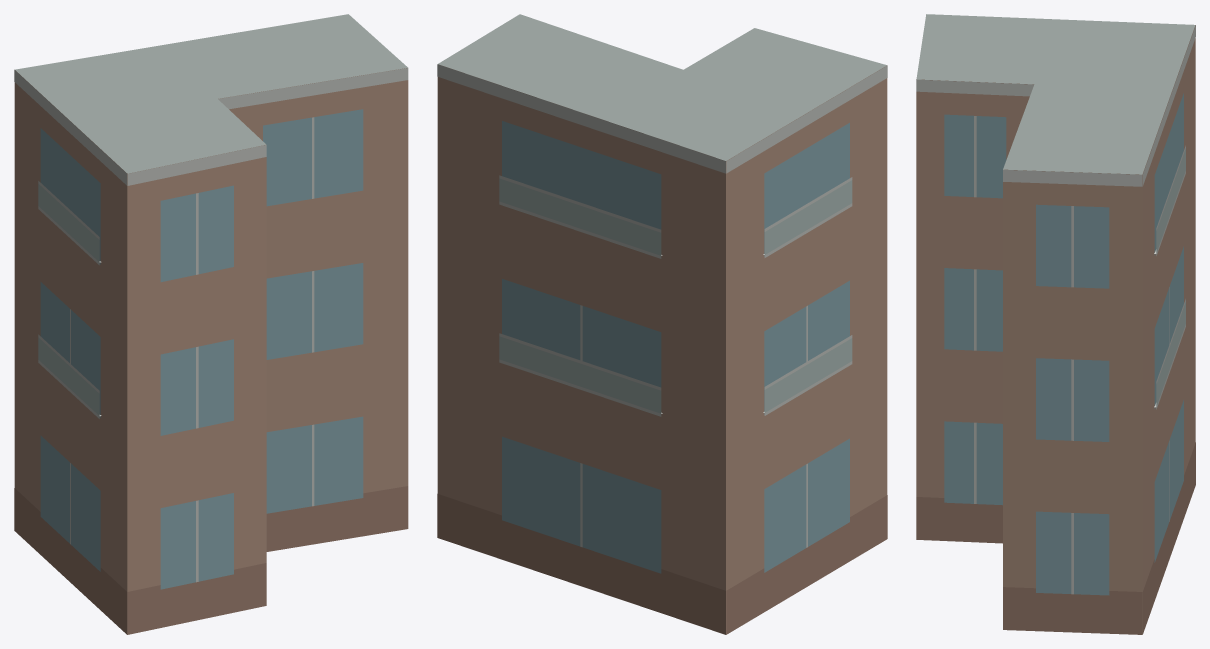
Rendered from survey-upis-32464327.glb.
The picture shows the model from 3 angles, left to right: view 1: azimuth 30°, elevation 25°; view 2: azimuth 150°, elevation 25°; view 3: azimuth 270°, elevation 25°; orthographic projection. The views are drawn at different scales.
Visible parts, largest first — view 1: survey-upis-32464327.tmp; view 2: survey-upis-32464327.tmp; view 3: survey-upis-32464327.tmp.
Part boxes in pixels (left/top/right/bottom): survey-upis-32464327.tmp: left=14, top=14, right=408, bottom=634; survey-upis-32464327.tmp: left=437, top=14, right=887, bottom=634; survey-upis-32464327.tmp: left=916, top=14, right=1195, bottom=634.
Size of the model in its own units: 6.85 by 9.15 by 5.04.
